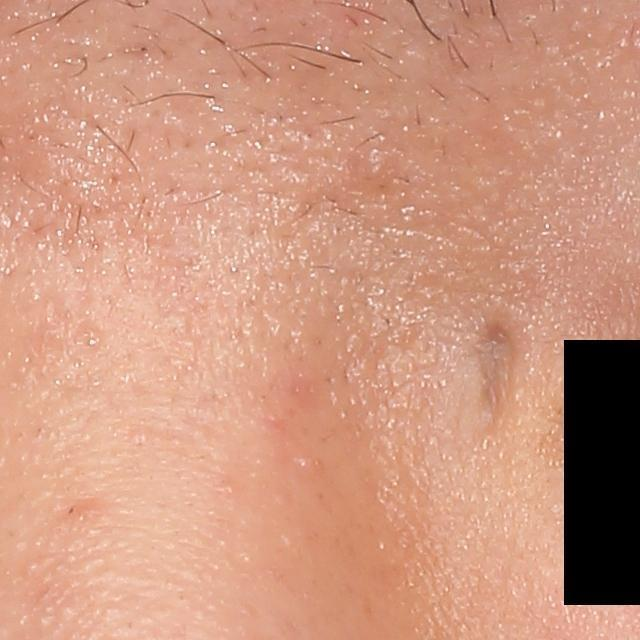other: (455, 312, 535, 447)
